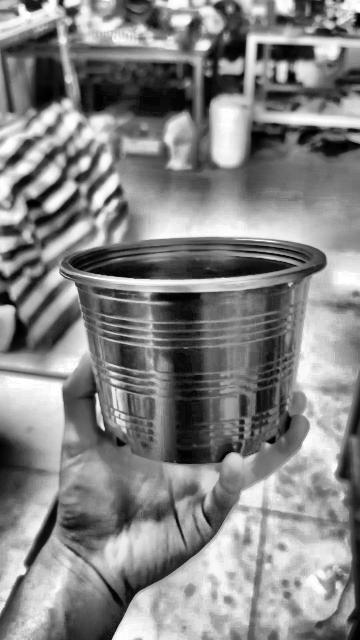pot: (60, 238, 325, 464)
